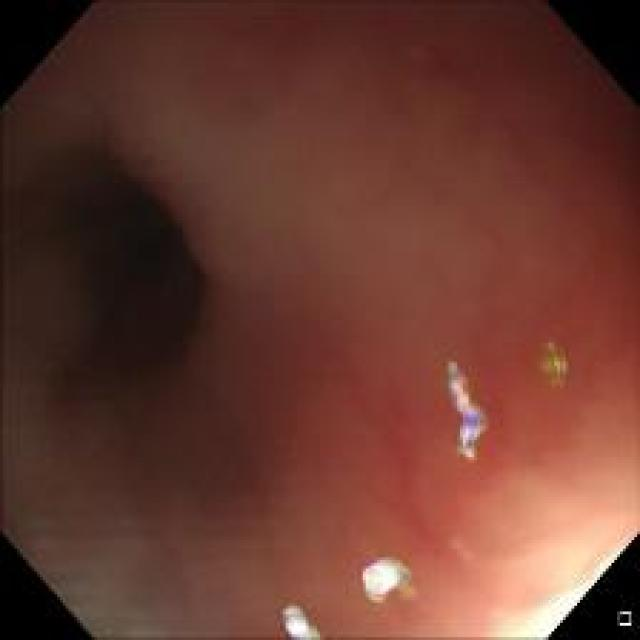color misalignment: (436, 349, 500, 462), (364, 558, 410, 602), (544, 319, 565, 386), (280, 602, 316, 636)
contrast: (2, 129, 214, 399)
saturation: (501, 550, 619, 635)
specularity: (364, 564, 398, 591), (285, 608, 309, 634)
